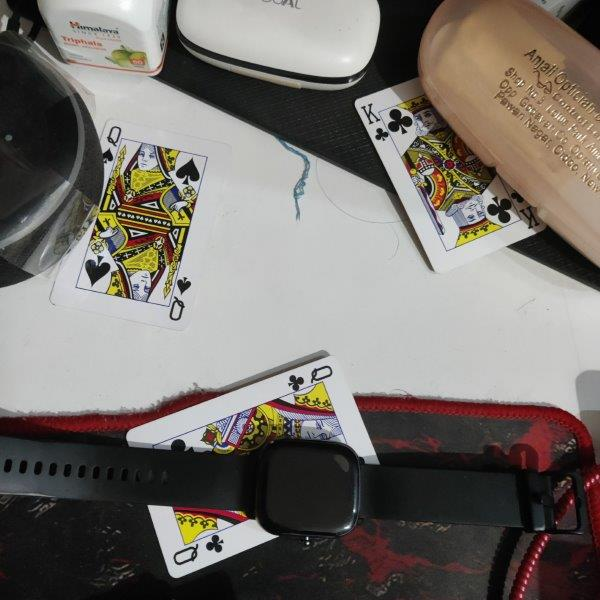King of Clubs: (353, 77, 548, 272)
Queen of Clubs: (125, 355, 381, 579)
Queen of Spades: (48, 118, 232, 332)
